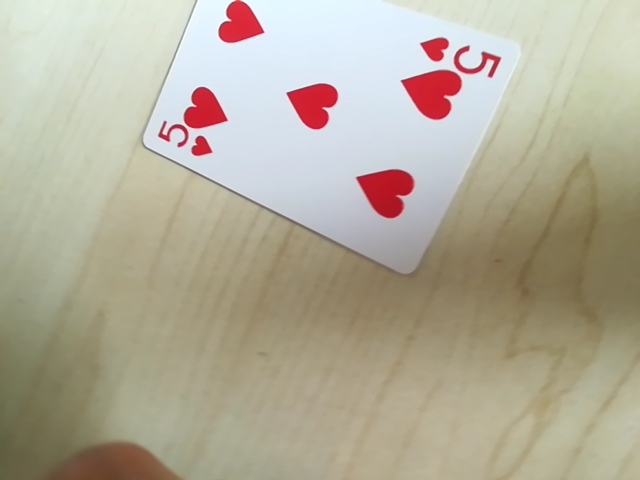hx 5: (416, 32, 503, 76), (154, 123, 219, 161)
